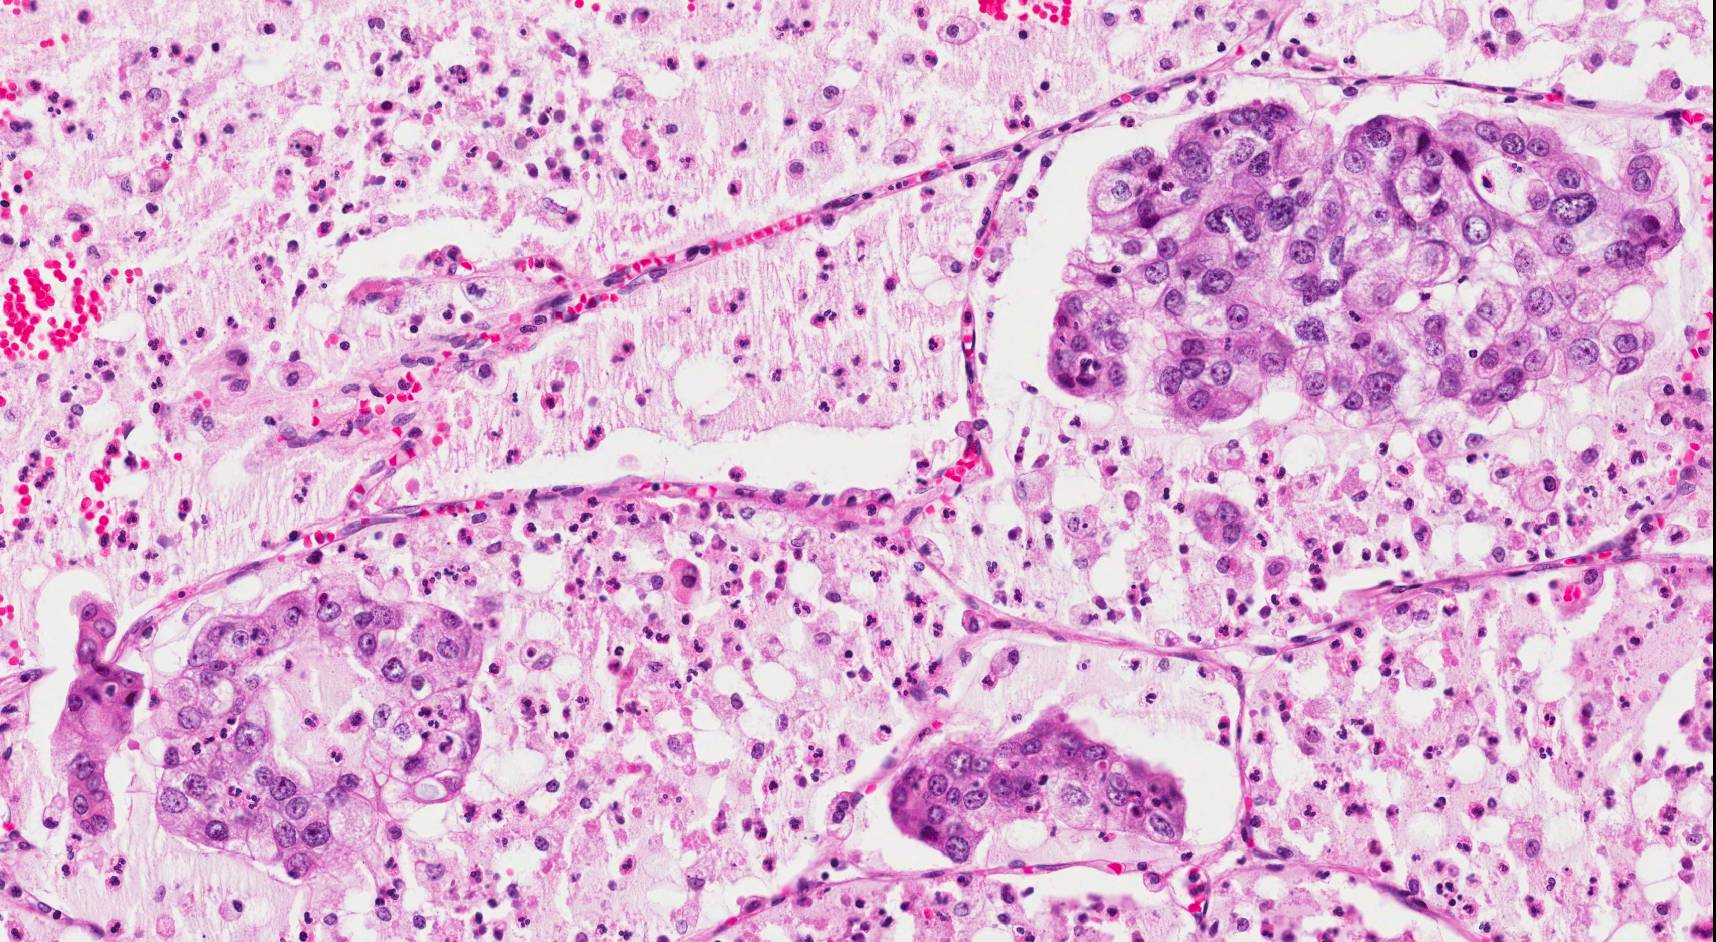stas: (1046, 104, 1684, 423), (152, 569, 483, 885), (886, 702, 1189, 861), (47, 589, 146, 836), (1193, 492, 1243, 550)
